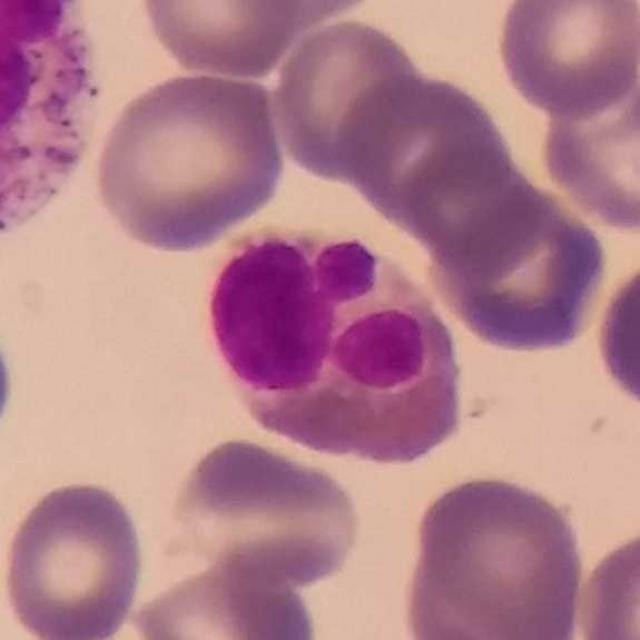Eosinophil: (205, 227, 466, 469)
Neutrophil: (0, 0, 104, 249)
RBC: (88, 67, 290, 255), (162, 432, 368, 593), (405, 469, 592, 640), (428, 183, 612, 356), (335, 67, 512, 231), (268, 13, 428, 185), (0, 475, 148, 640), (491, 0, 640, 120), (536, 67, 640, 235), (127, 551, 324, 639), (134, 0, 305, 81), (572, 518, 640, 640), (591, 250, 640, 418), (223, 0, 393, 27), (0, 337, 15, 443)
